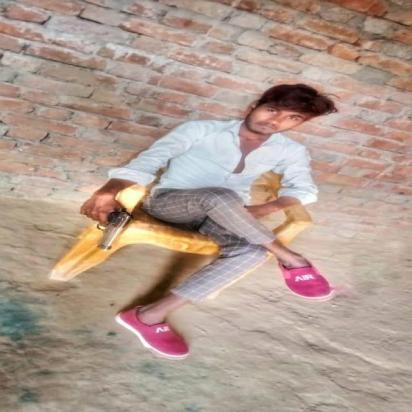Gun: (80, 203, 138, 252)
